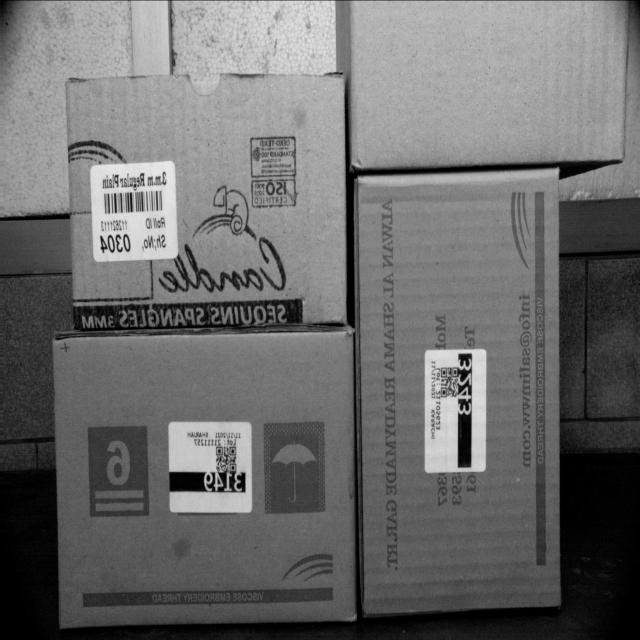cardboxes: (363, 167, 557, 613), (59, 331, 351, 622), (71, 77, 345, 324), (350, 0, 627, 160)
